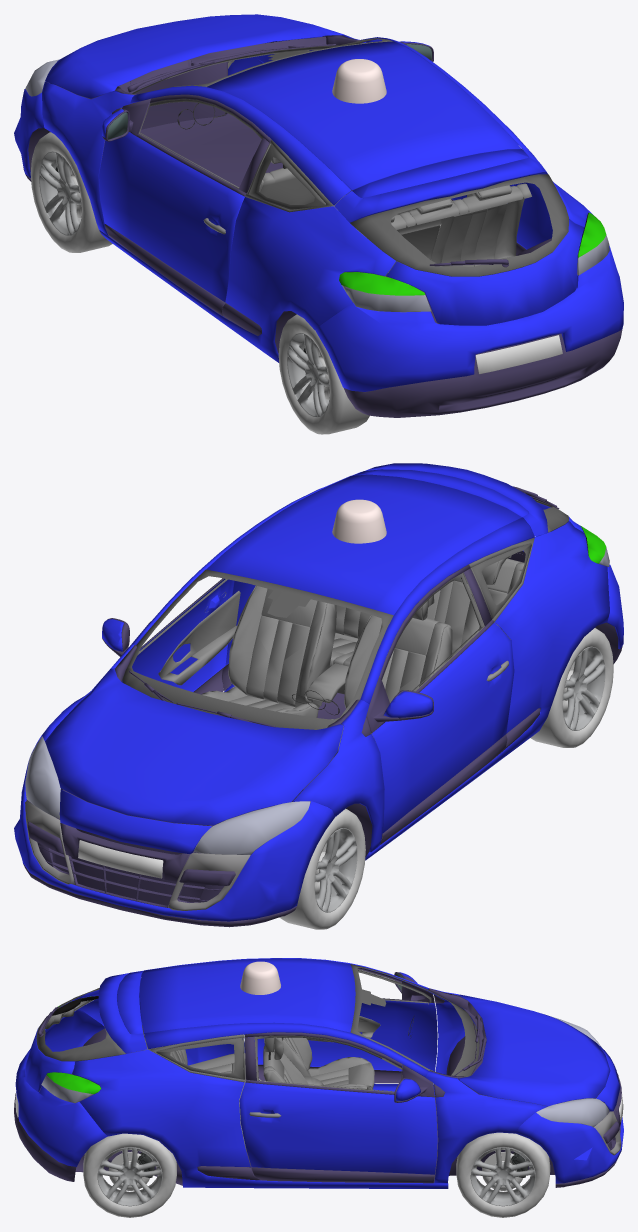
File: blue_open.dae
3 views of the same model, one above another, from view 1: azimuth 30°, elevation 25°; view 2: azimuth 150°, elevation 25°; view 3: azimuth 270°, elevation 25° (orthographic). The views are drawn at different scales.
Parts seen in each view (by area): view 1: Untitled_003, Untitled_018, Untitled_016, Untitled_010, Untitled_028, Untitled_034, Untitled_029, Untitled_033, Untitled_005, Untitled_004, Untitled_002, Untitled_011 (+2 smaller); view 2: Untitled_003, Untitled_016, Untitled_018, Untitled_010, Untitled_005, Untitled_009, Untitled_034, Untitled_028, Untitled_033, Untitled_029, Untitled_002, Untitled_013 (+1 smaller); view 3: Untitled_003, Untitled_018, Untitled_016, Untitled_010, Untitled_022, Untitled_026, Untitled_020, Untitled_025, Untitled_005, Untitled_013, Untitled_002, Untitled_004 (+3 smaller).
Boxes of the visible parts, x1,y1,x2,y2 form: Untitled_003: [14, 14, 623, 391]; Untitled_018: [23, 35, 622, 417]; Untitled_016: [244, 137, 531, 284]; Untitled_010: [131, 38, 578, 276]; Untitled_028: [278, 314, 369, 434]; Untitled_034: [30, 132, 112, 252]; Untitled_029: [287, 333, 329, 417]; Untitled_033: [39, 151, 81, 235]; Untitled_005: [25, 59, 609, 312]; Untitled_004: [339, 212, 606, 295]; Untitled_002: [332, 59, 386, 103]; Untitled_011: [475, 335, 562, 374]; Untitled_003: [14, 463, 623, 921]; Untitled_016: [158, 555, 524, 756]; Untitled_018: [23, 486, 622, 927]; Untitled_010: [122, 499, 568, 729]; Untitled_005: [25, 547, 609, 854]; Untitled_009: [25, 592, 508, 910]; Untitled_034: [279, 808, 365, 929]; Untitled_028: [530, 628, 613, 747]; Untitled_033: [314, 828, 357, 912]; Untitled_029: [562, 646, 605, 730]; Untitled_002: [332, 499, 386, 543]; Untitled_013: [137, 538, 534, 691]; Untitled_003: [15, 958, 623, 1188]; Untitled_018: [14, 968, 621, 1187]; Untitled_016: [142, 1016, 380, 1151]; Untitled_010: [36, 964, 479, 1079]; Untitled_022: [456, 1132, 550, 1217]; Untitled_026: [83, 1133, 176, 1217]; Untitled_020: [470, 1147, 535, 1206]; Untitled_025: [97, 1147, 162, 1206]; Untitled_005: [41, 1000, 609, 1126]; Untitled_013: [149, 969, 431, 1092]; Untitled_002: [240, 961, 280, 994]; Untitled_004: [46, 996, 101, 1094].
Bounding box in the file's own units: 2.01 × 4.3 × 1.57.
